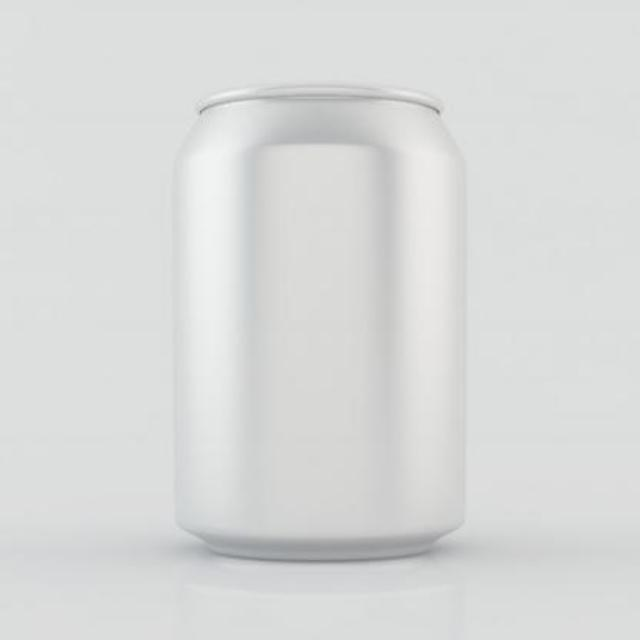metal: (174, 86, 462, 555)
